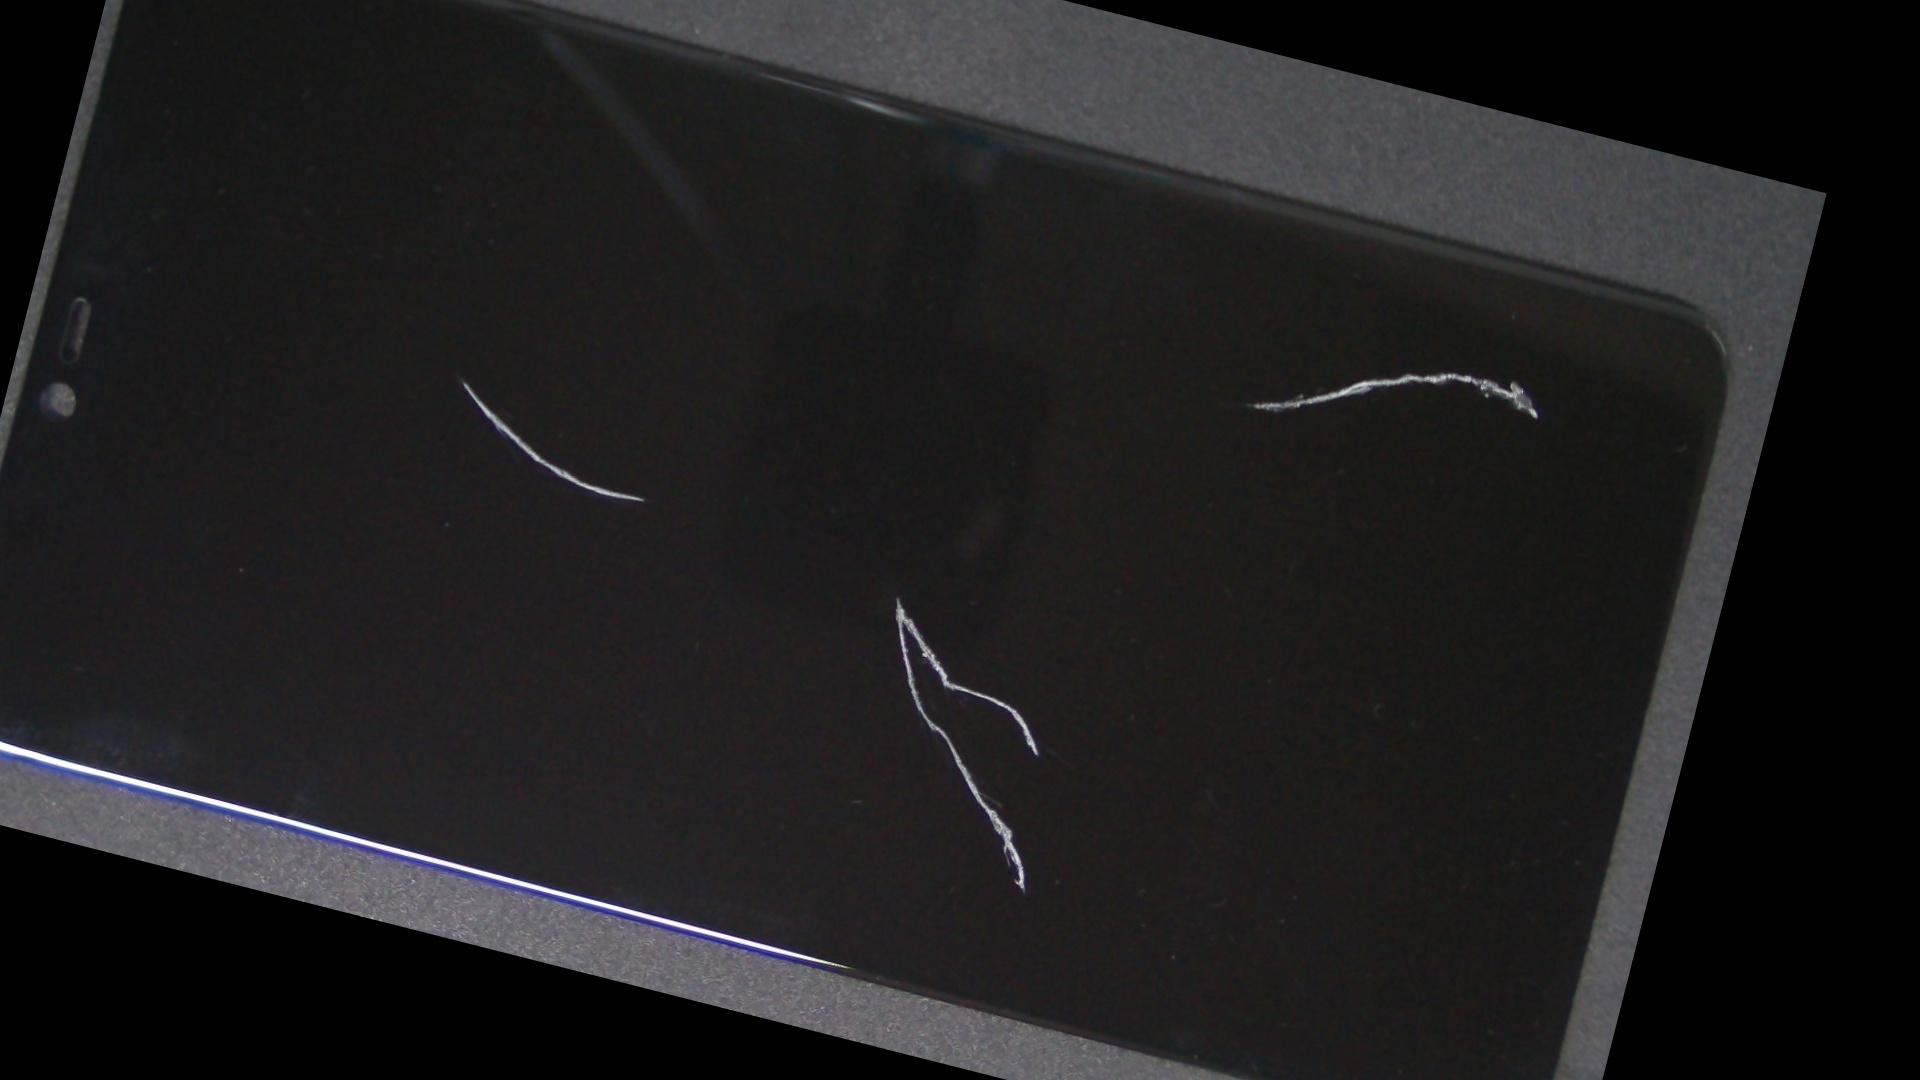oil: (378, 182, 1416, 1009), (775, 75, 1796, 567), (186, 74, 735, 679)
